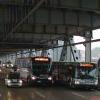Bus: (12, 51, 97, 91)
